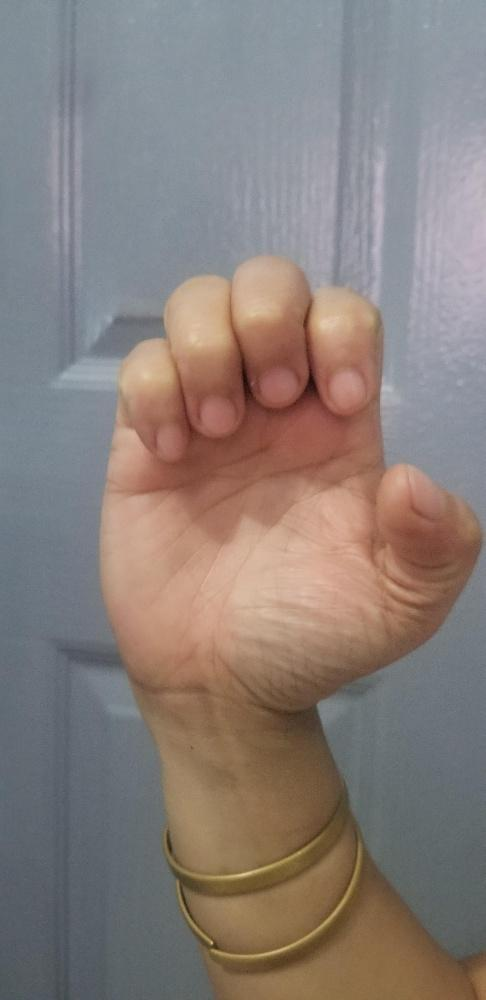e: (93, 253, 485, 704)
